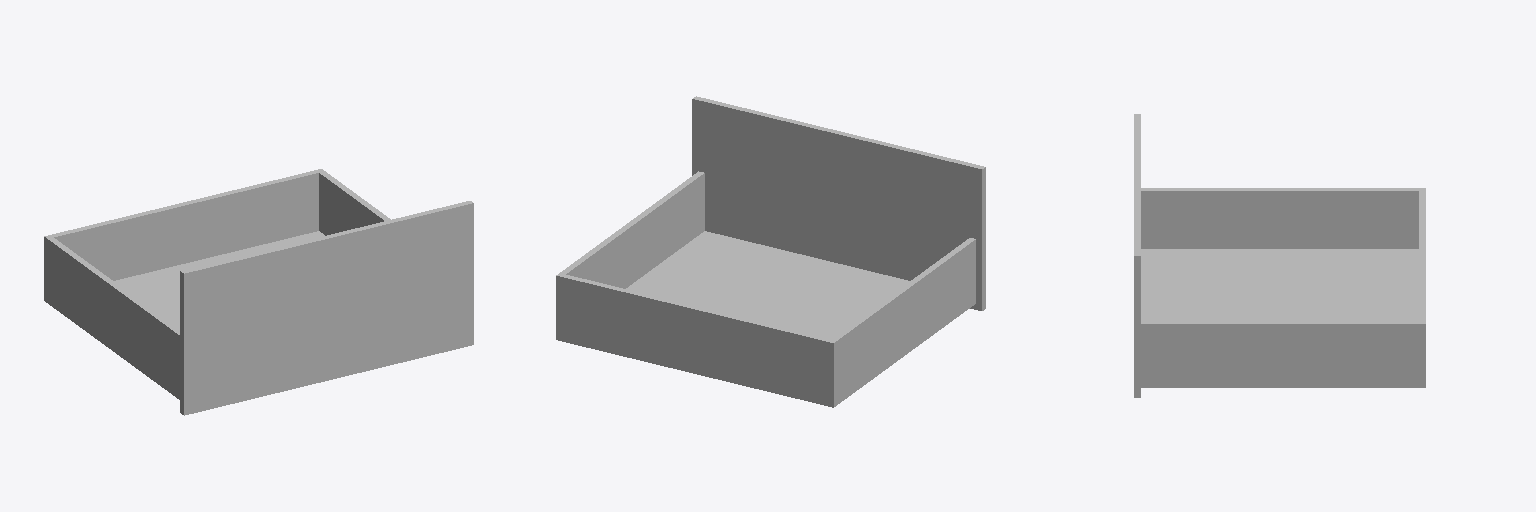
File: KitchenOPEN_Export-30.obj
The picture shows the model from 3 angles: view 1: azimuth 30°, elevation 25°; view 2: azimuth 150°, elevation 25°; view 3: azimuth 270°, elevation 25°; orthographic projection.
Parts seen in each view (by area): view 1: KitchenOPEN_Export-30; view 2: KitchenOPEN_Export-30; view 3: KitchenOPEN_Export-30.
Part boxes in pixels (x1,y1,x2,y2): KitchenOPEN_Export-30: (44,169,473,415); KitchenOPEN_Export-30: (556,96,985,407); KitchenOPEN_Export-30: (1134,114,1425,397).
Size of the model in its own units: 47 by 22 by 41.